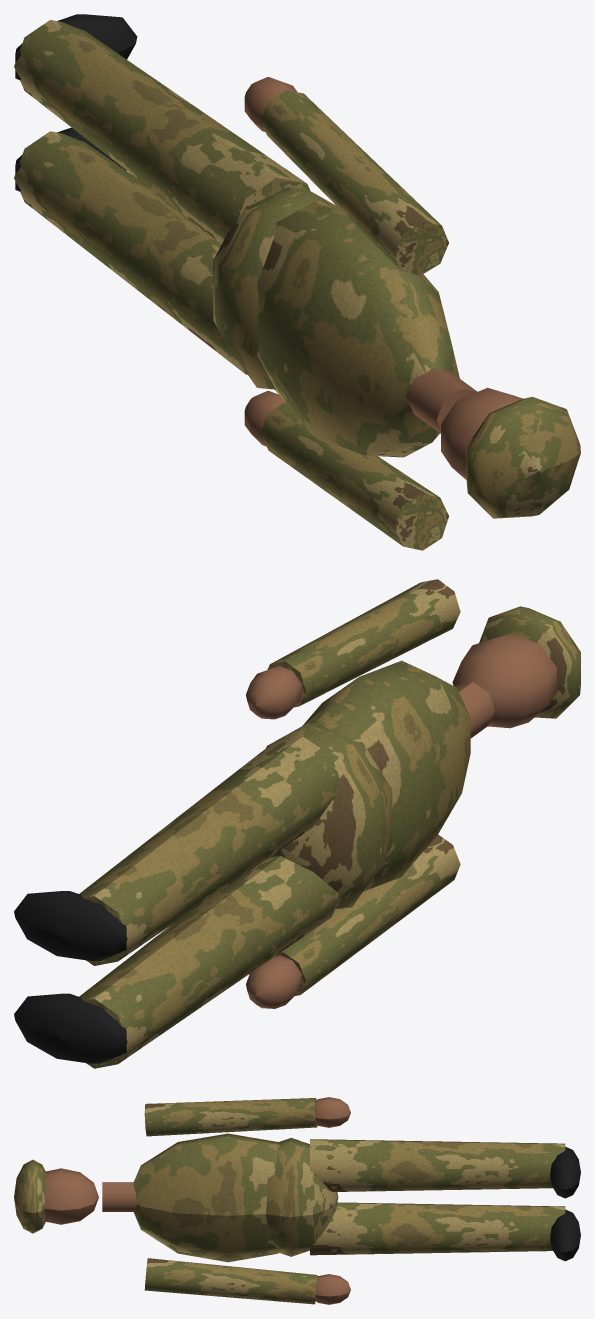
File: person_camo_stand.obj
3 renders of one model, top to bottom at view 1: azimuth 30°, elevation 25°; view 2: azimuth 150°, elevation 25°; view 3: azimuth 270°, elevation 25°, orthographic. The views are drawn at different scales.
Bounding box in the file's own units: 0.321 × 0.7197 × 1.8.
Materials: 3 (1 with a texture image).
